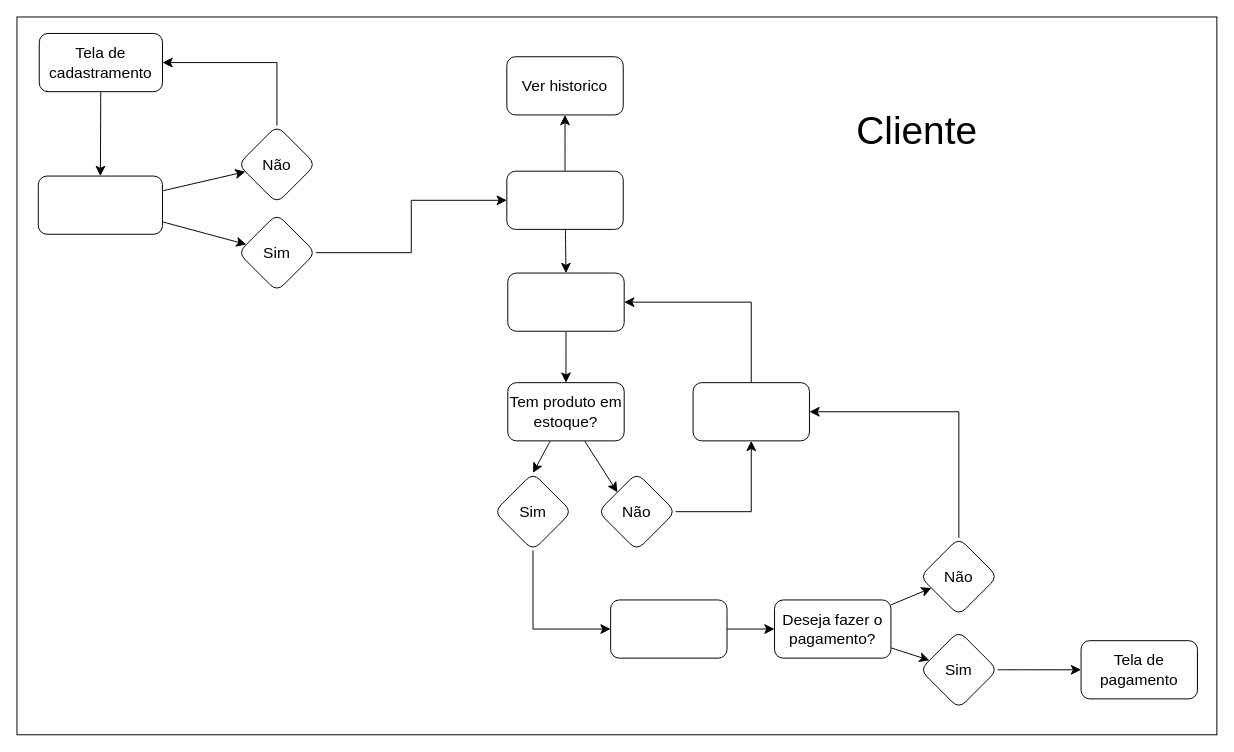
Image size: 1234x752. Some labels were removed from this diagram. The shapes that lost their labels are listed below. From the top down, each one's centre as x and y in pixels, then its label:
the point at 99,204: Tem cadastro no site?
the point at 564,199: Home
the point at 565,301: Página de produtos
the point at 750,411: Voltar para página de produtos
the point at 668,628: Carrinho de compras
